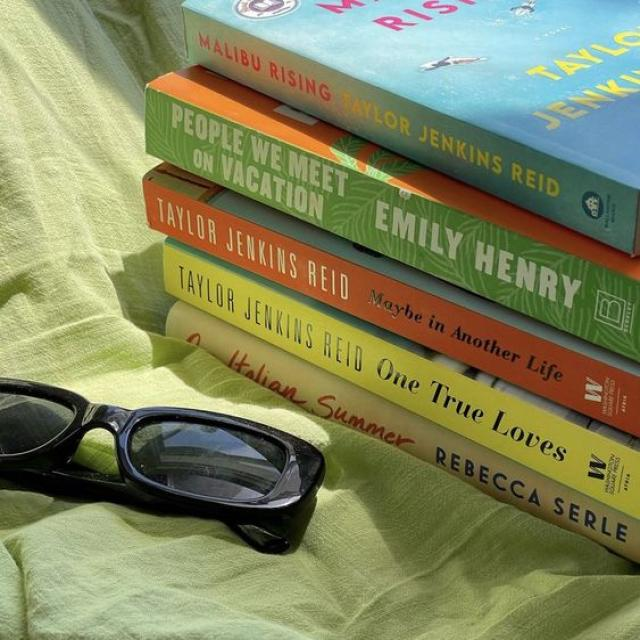book: (142, 83, 639, 359), (163, 243, 640, 522), (146, 179, 638, 438), (166, 301, 639, 561), (185, 5, 637, 248)
